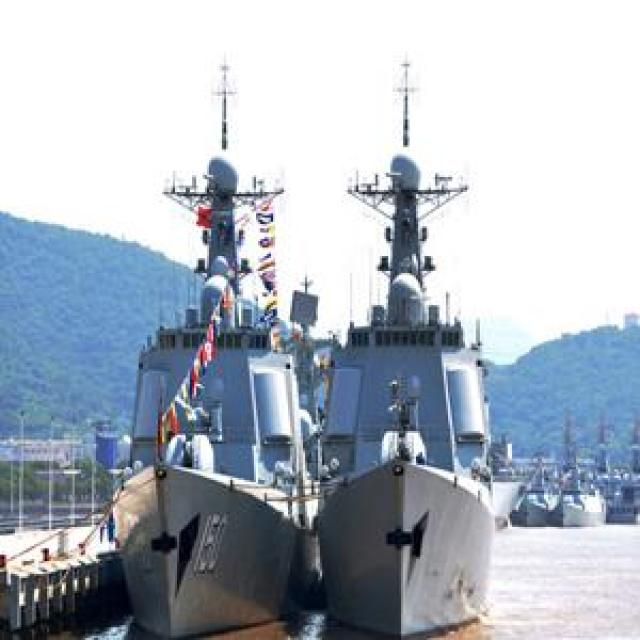navalvessels: (113, 72, 320, 640), (308, 75, 507, 640), (552, 448, 606, 534), (510, 445, 558, 527)
